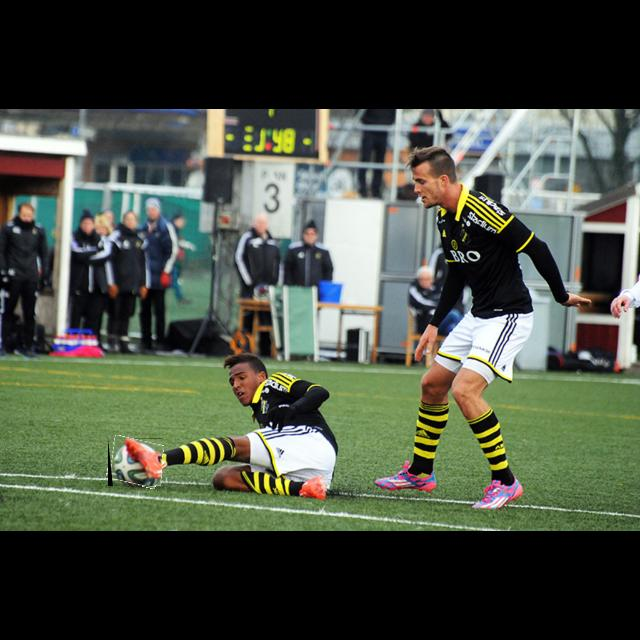Football: (108, 438, 162, 486)
